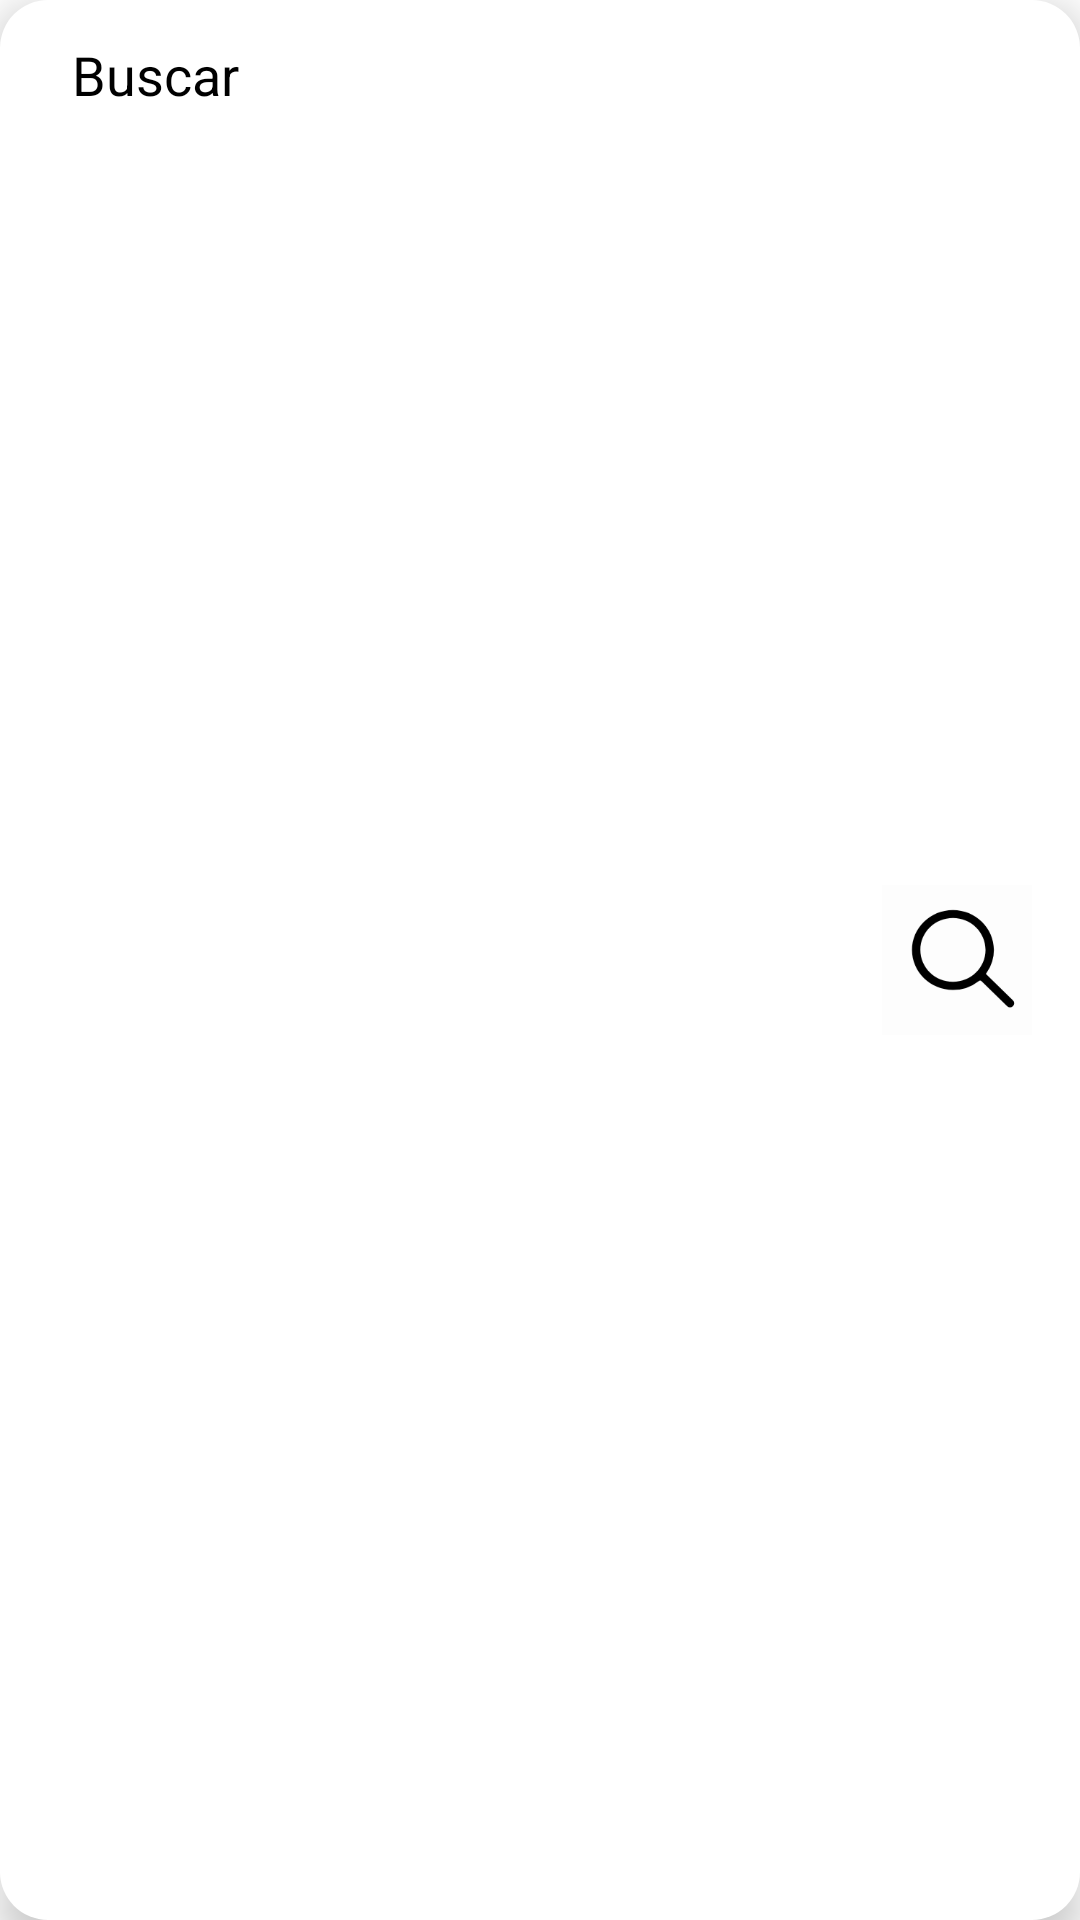

Named icons in this screenshot (1080px x 1920px) and their centers, [x,y]:
search: [963,958]
